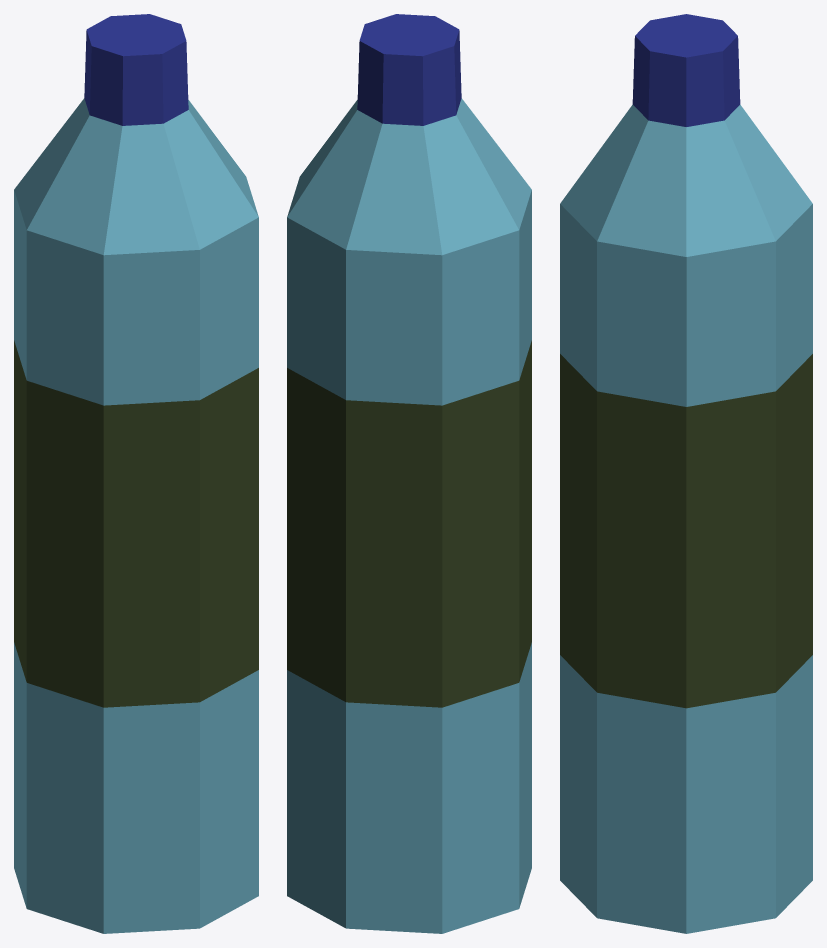
Rendered from bottle.glb.
The picture shows the model from 3 angles, left to right: view 1: azimuth 30°, elevation 25°; view 2: azimuth 150°, elevation 25°; view 3: azimuth 270°, elevation 25°; orthographic projection.
Parts seen in each view (by area): view 1: bottle; view 2: bottle; view 3: bottle.
Part boxes in pixels (x1,y1,x2,y2): bottle: [14, 14, 258, 933]; bottle: [287, 14, 531, 933]; bottle: [560, 14, 812, 933].
Size of the model in its own units: 0.1236 by 0.4557 by 0.1236.
Materials: 1 (1 with a texture image).
